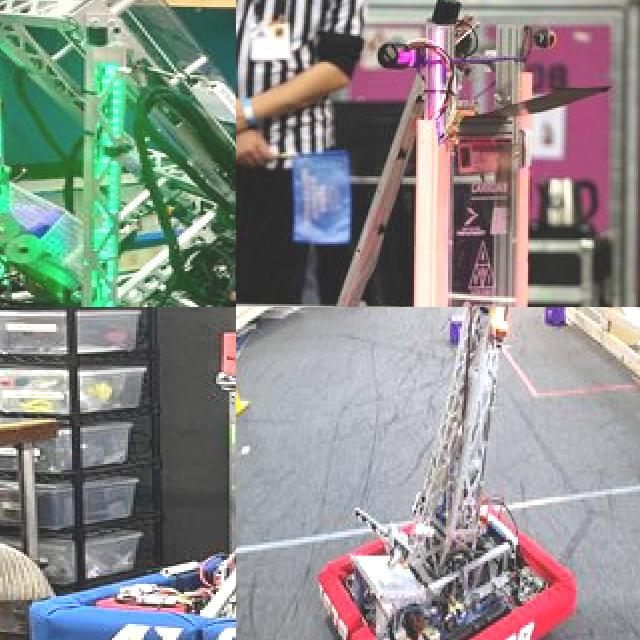FRC-Robots: (236, 16, 640, 307), (314, 307, 602, 640), (0, 0, 236, 307), (34, 307, 236, 640)
